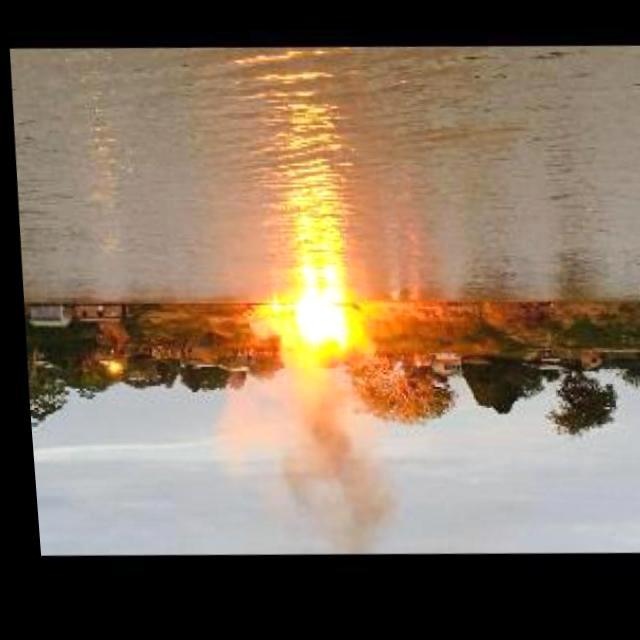fire: (250, 364, 392, 542), (254, 302, 350, 358)
